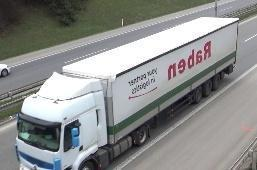car: (0, 63, 10, 77)
truck: (15, 17, 238, 169)
